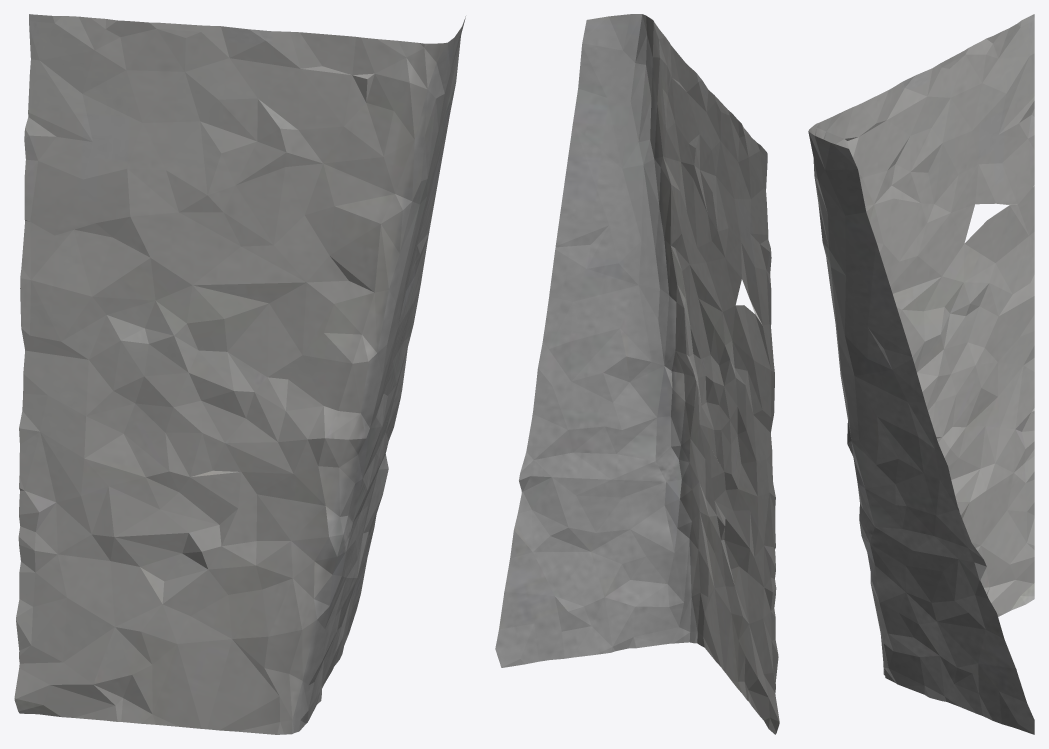
3 renders of one model, left to right at view 1: azimuth 30°, elevation 25°; view 2: azimuth 150°, elevation 25°; view 3: azimuth 270°, elevation 25°, orthographic. The views are drawn at different scales.
Bounding box in the file's own units: 0.4299 × 0.8373 × 0.2916.
Materials: 2 (2 with a texture image).
